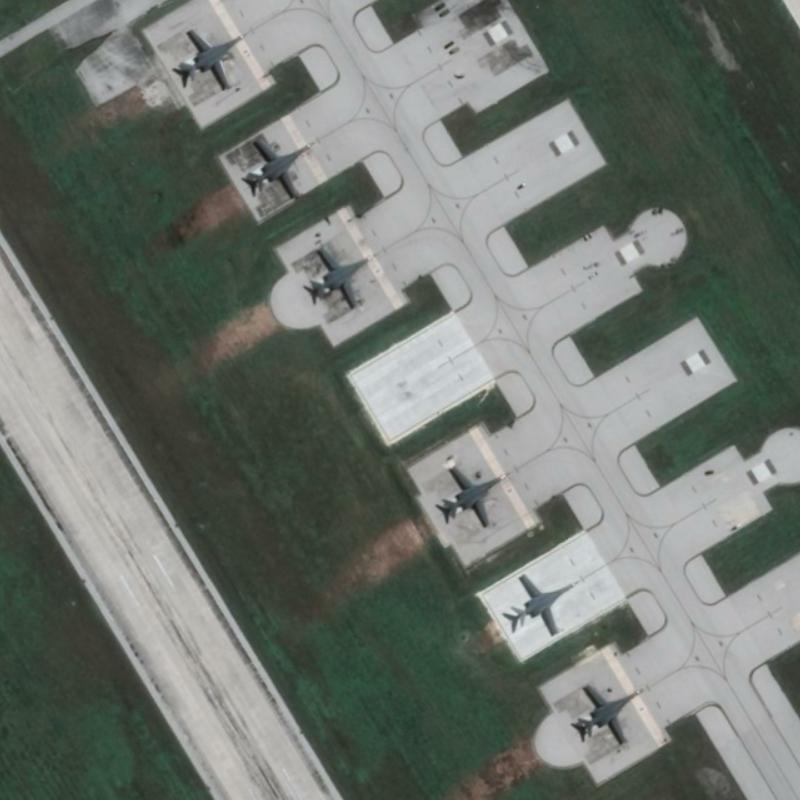A10: (171, 23, 248, 94), (435, 463, 511, 530), (504, 570, 580, 637), (304, 242, 376, 312), (244, 132, 315, 201), (575, 680, 644, 746)
